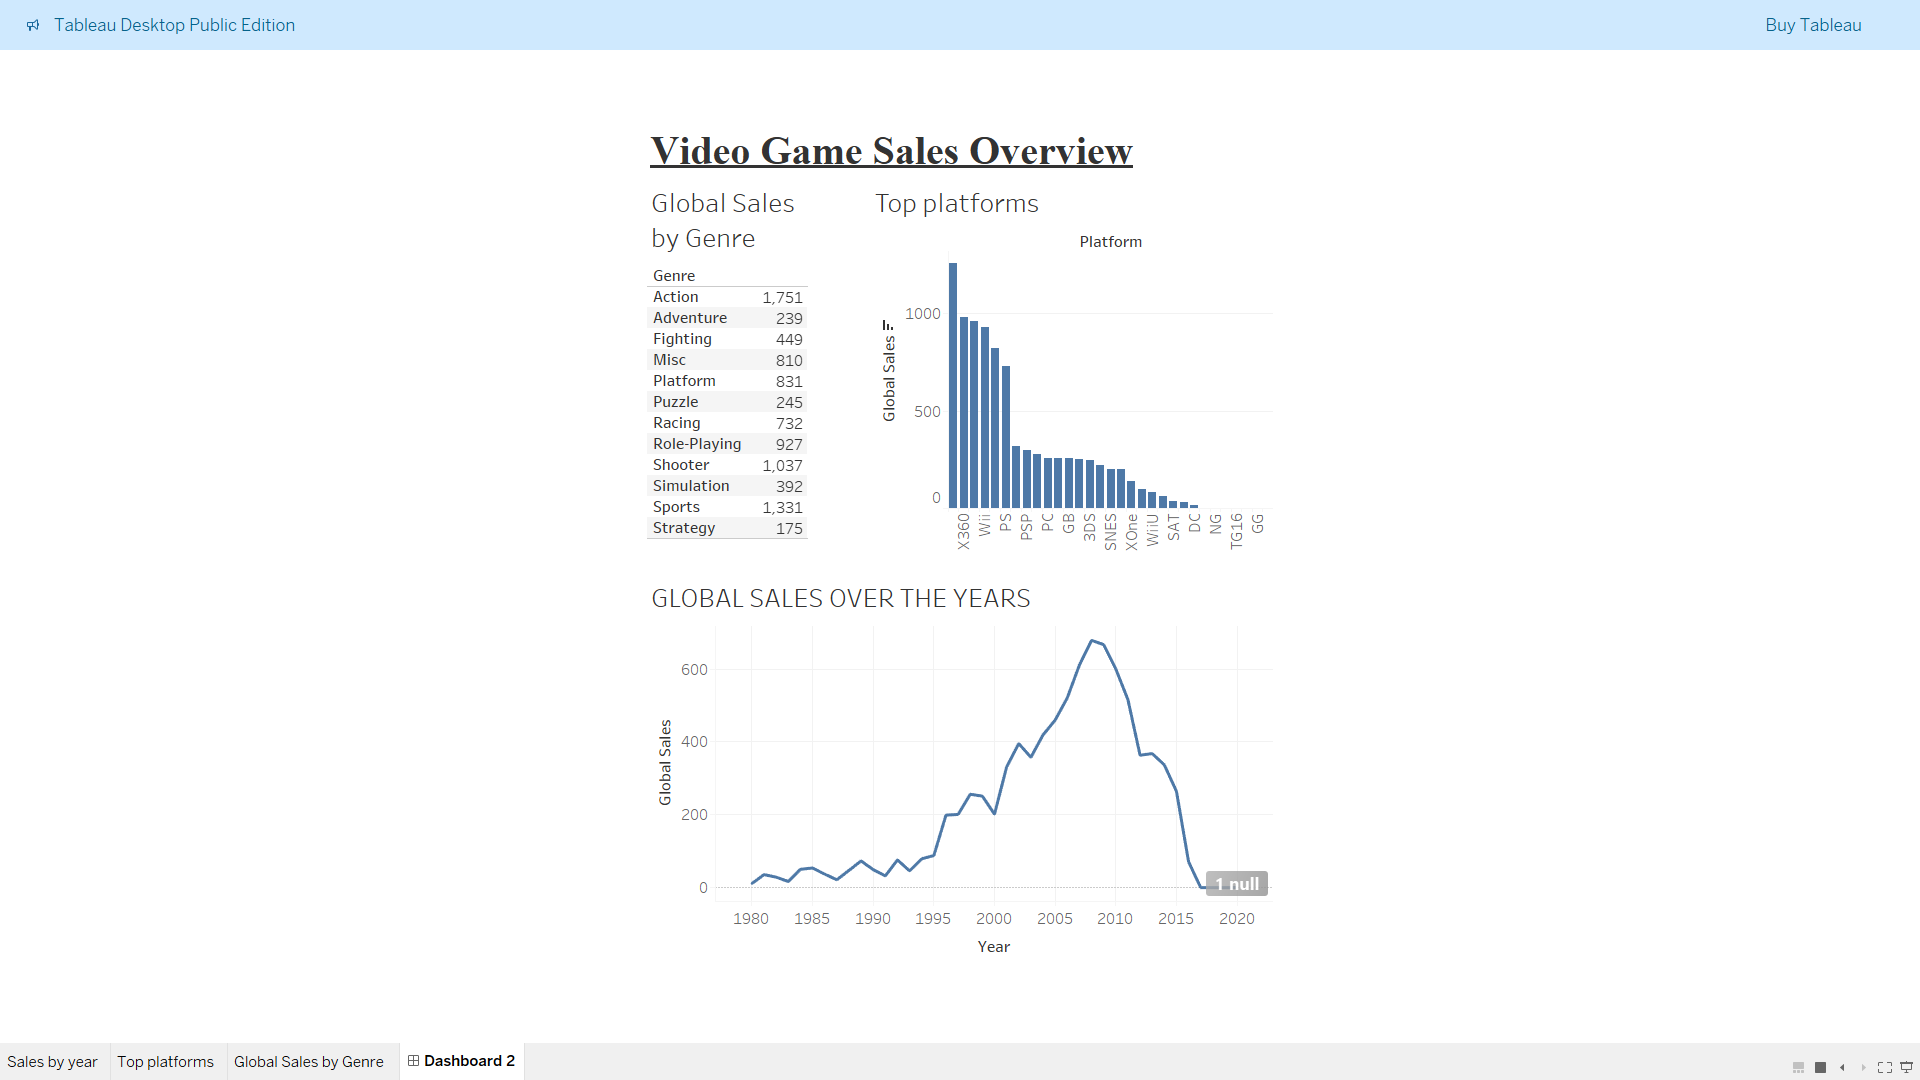

The page's visual inventory and layout, read from the dashboard file:
{"tool":"tableau","page":{"name":"Dashboard 2","canvas":[650,860],"ordinal":0},"visuals":[{"type":"title","box":[8,8.6,634,56.8]},{"type":"worksheet","title":"Global Sales by Genre","mark":"Text","rows":["Genre"],"box":[8,65.4,224,393]},{"type":"worksheet","title":"Top platforms","mark":"Automatic","rows":["Global_Sales"],"cols":["Platform"],"box":[232,65.4,410,393]},{"type":"worksheet","title":"Sales by year","mark":"Line","rows":["Global_Sales"],"cols":["Year"],"box":[8,458.4,634,393]}]}

Visuals, with their boxes on the page's 650x860 design canvas (x1, y1, x2, y2). These are canvas units, not pixel positions in the 1920x1080 screenshot, which may show the page scaled, cropped or inside an application window:
title: BBox(8, 9, 642, 65)
"Global Sales by Genre" worksheet (Text marks): BBox(8, 65, 232, 458)
"Top platforms" worksheet: BBox(232, 65, 642, 458)
"Sales by year" worksheet (Line marks): BBox(8, 458, 642, 851)
